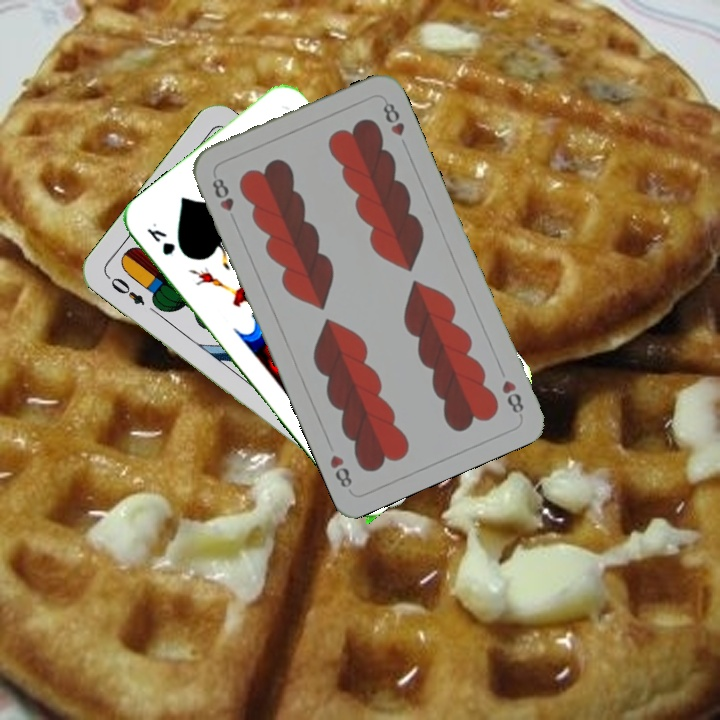EO: (107, 273, 148, 308)
GK: (143, 218, 178, 259)
H8: (497, 375, 527, 419), (208, 174, 237, 214)
